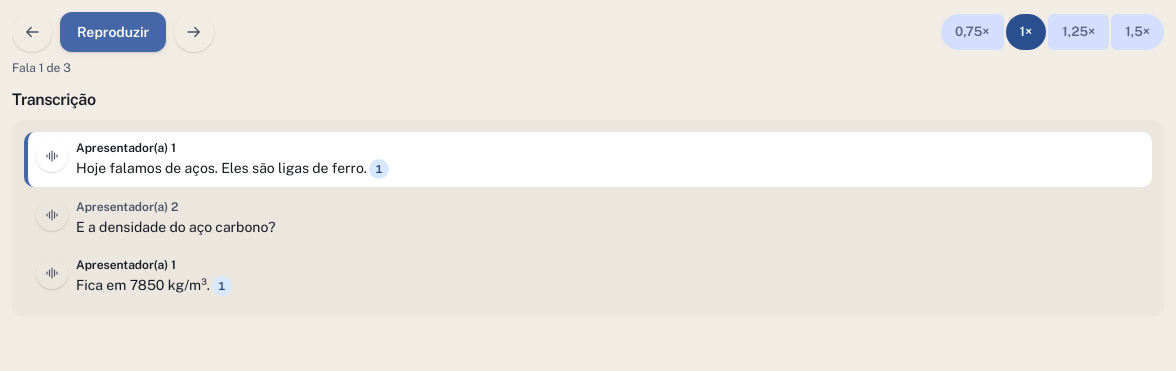
Scenario: AudioView (D-98) › says an engine error in words
Click the button "Reproduzir" at (113, 32), box [60, 12, 166, 52]
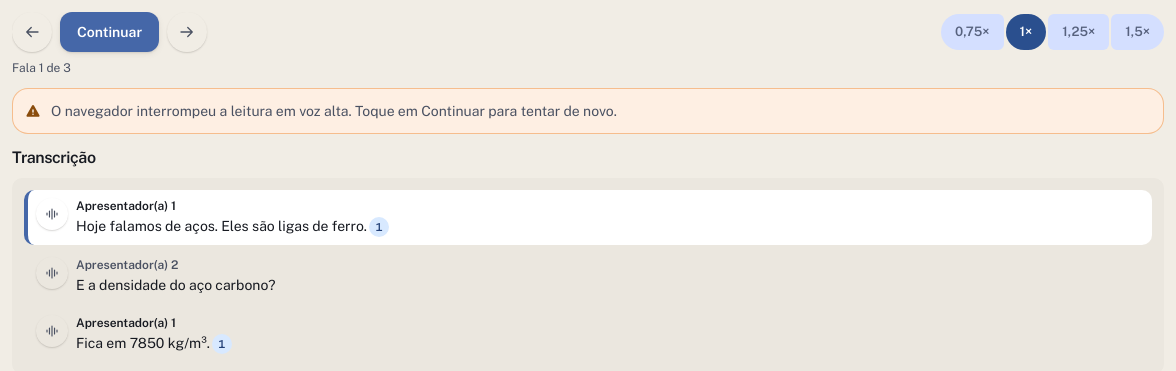
Check: the message is shown, box [12, 88, 1164, 134]
Check: the button "Continuar" is shown, box [60, 12, 159, 52]
